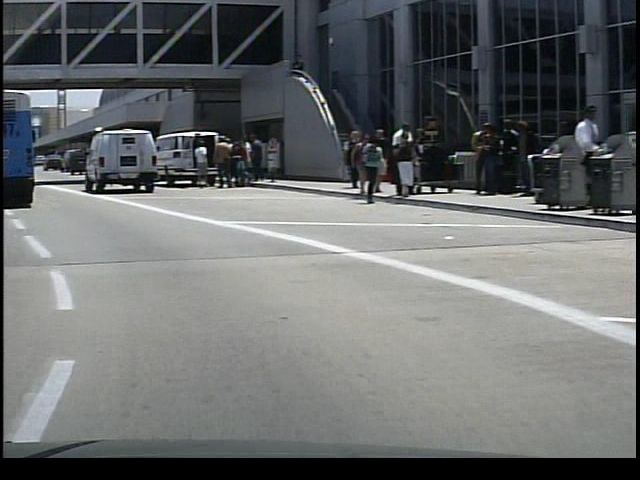person: (560, 102, 597, 209), (388, 122, 418, 199), (388, 131, 413, 200), (208, 137, 234, 191), (243, 132, 265, 182), (189, 136, 207, 191)
